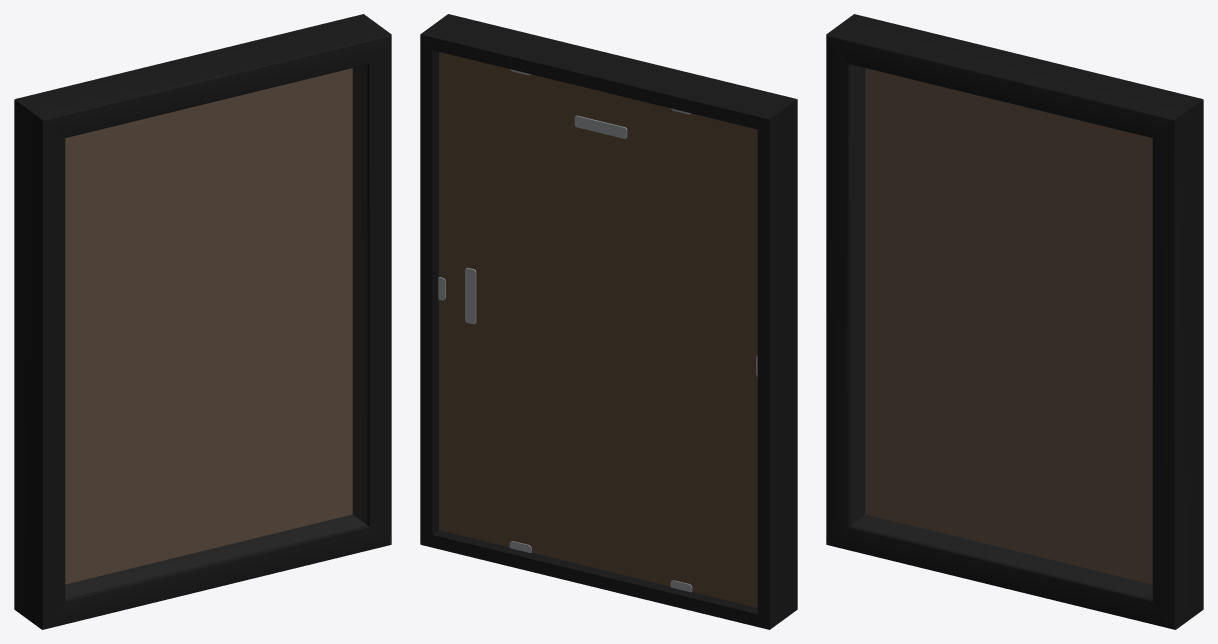
Rendered from rodalm.glb.
The picture shows the model from 3 angles, left to right: view 1: azimuth 30°, elevation 25°; view 2: azimuth 150°, elevation 25°; view 3: azimuth 330°, elevation 25°; orthographic projection.
Visible parts, largest first — view 1: back_panel, frame_left, frame_right, frame_top, frame_bottom; view 2: back_panel, frame_left, frame_top, frame_right, frame_bottom, hanger_portrait, hanger_landscape; view 3: back_panel, frame_right, frame_left, frame_top, frame_bottom.
Part boxes in pixels (left/top/right/bottom): back_panel: left=65, top=68, right=352, bottom=584; frame_left: left=14, top=100, right=65, bottom=629; frame_right: left=352, top=36, right=391, bottom=544; frame_top: left=14, top=14, right=391, bottom=137; frame_bottom: left=43, top=514, right=391, bottom=629; back_panel: left=439, top=52, right=757, bottom=607; frame_left: left=757, top=99, right=797, bottom=629; frame_top: left=420, top=14, right=797, bottom=129; frame_right: left=420, top=35, right=438, bottom=543; frame_bottom: left=420, top=530, right=769, bottom=629; hanger_portrait: left=574, top=115, right=627, bottom=138; hanger_landscape: left=465, top=267, right=476, bottom=324; back_panel: left=865, top=68, right=1152, bottom=584; frame_right: left=1152, top=100, right=1203, bottom=629; frame_left: left=826, top=36, right=865, bottom=544; frame_top: left=826, top=14, right=1203, bottom=137; frame_bottom: left=826, top=514, right=1174, bottom=629.
Size of the model in its own units: 228 by 318 by 32.21.
